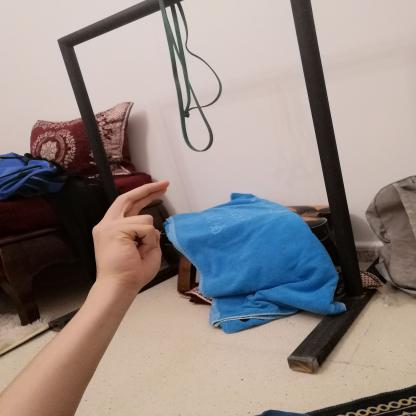ZAY: (84, 174, 184, 296)
